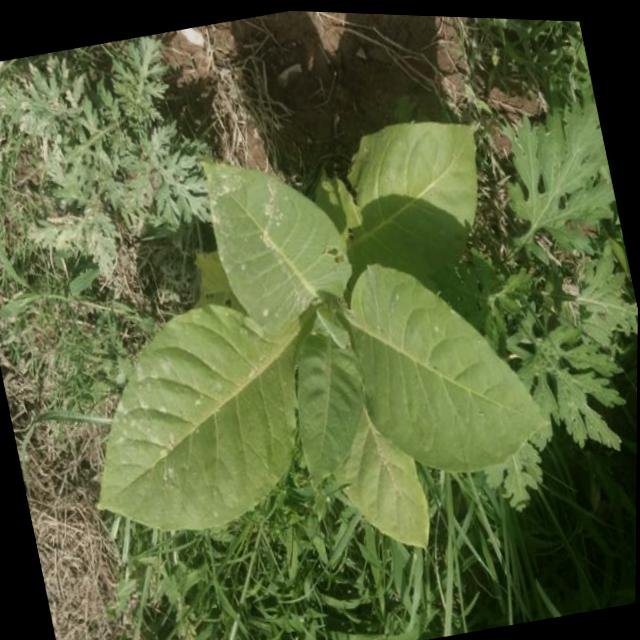healthy: (102, 119, 548, 543)
